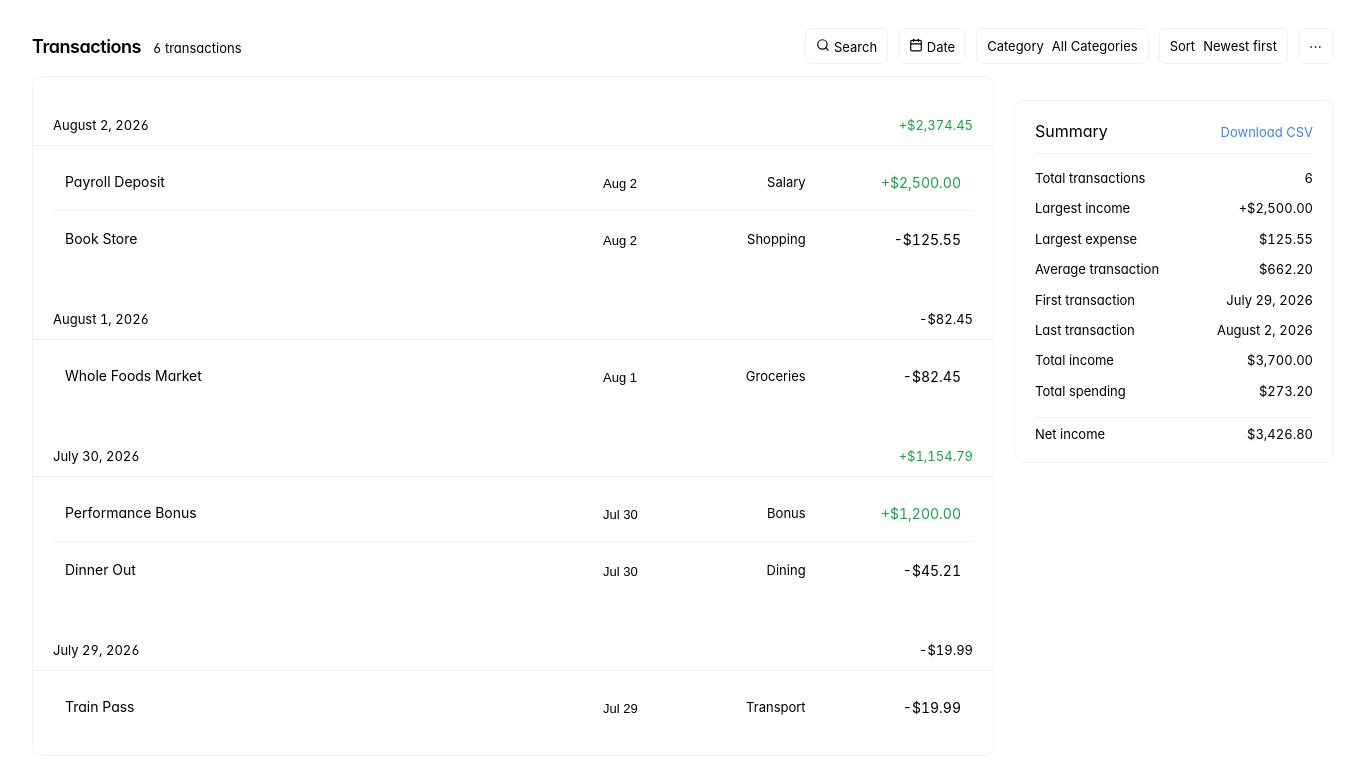
Transactions › sorts transactions within a date group by lowest amount first
Click the button "Sort Newest first". click: (1223, 46)
box: [1159,28,1288,64]
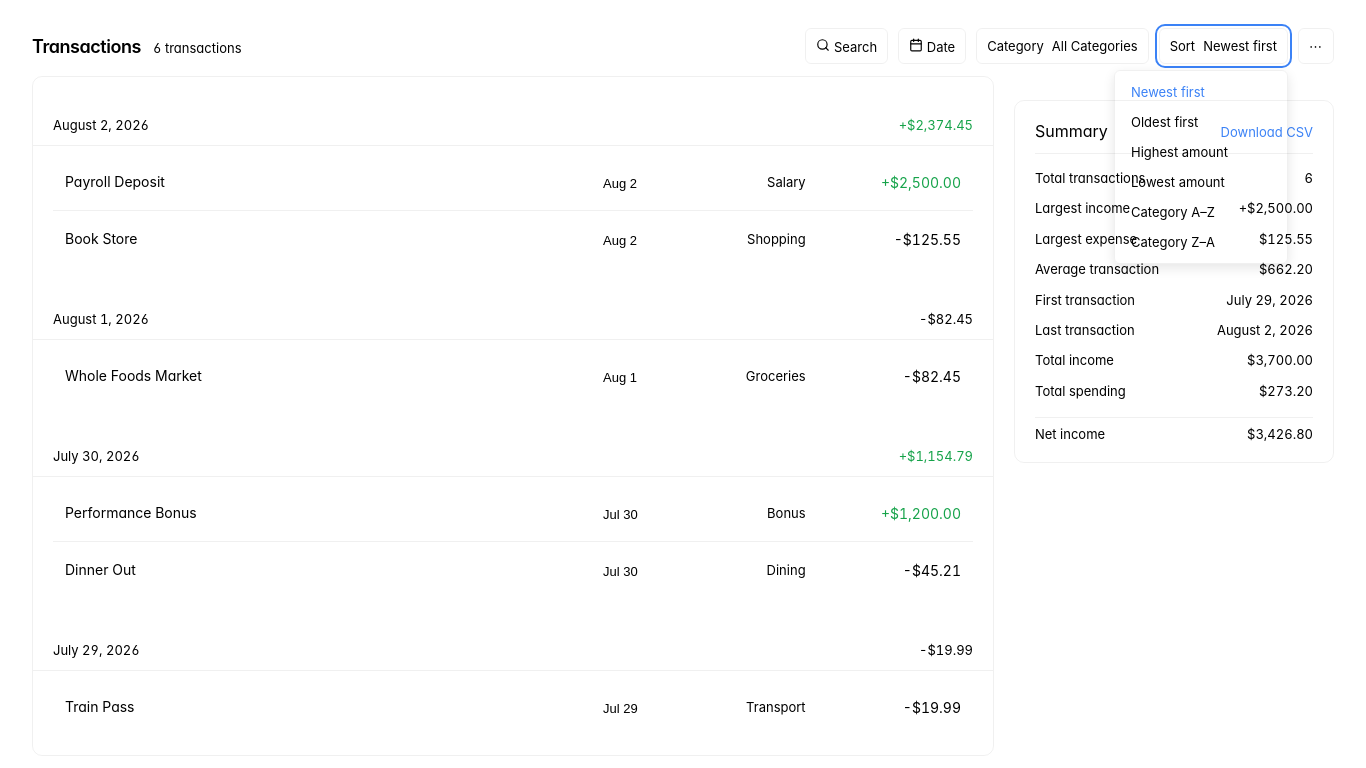
Click the button "Lowest amount". click: (1201, 182)
box: [1121,167,1281,197]
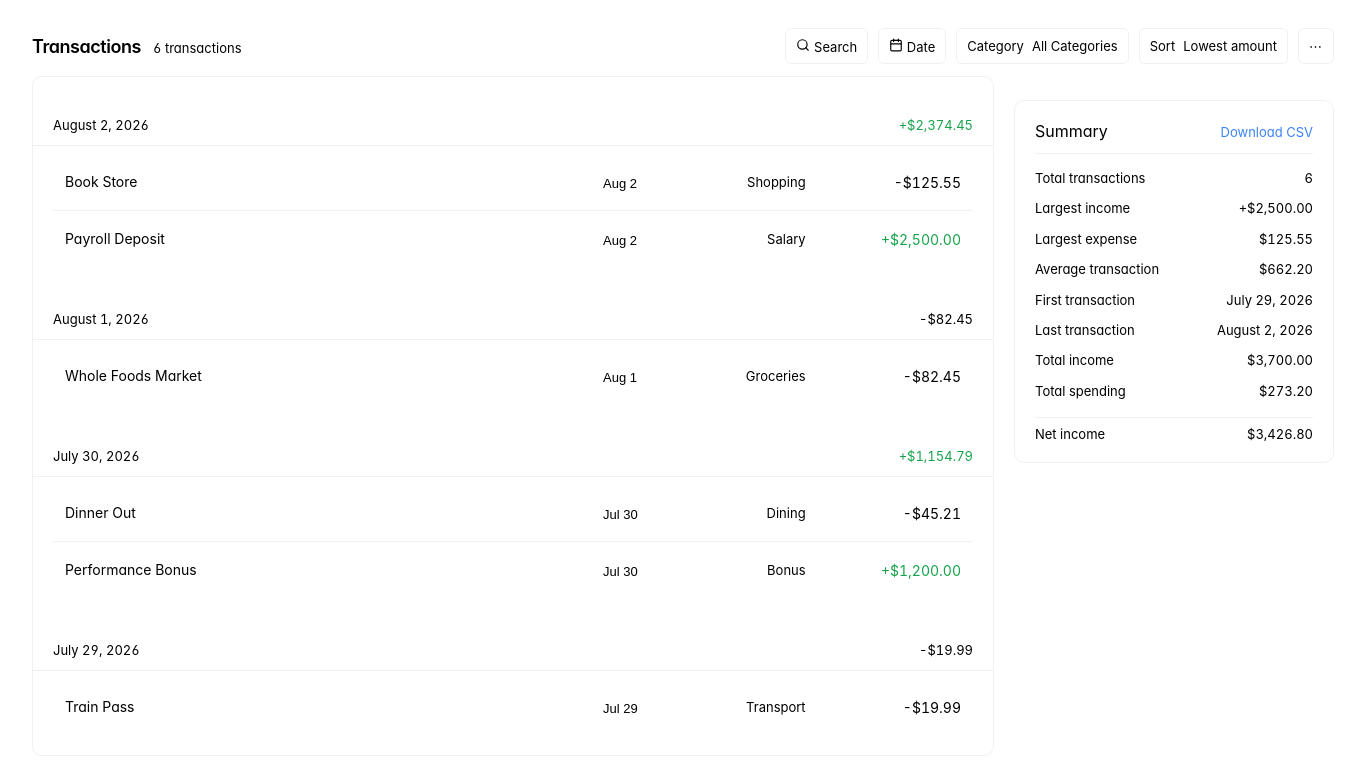
Expected: the element "August 2, 2026" is shown, [53,97,973,267]
Now the text "Book Store" is shown, box [65,172,137,190]
Now the text "Payroll Deposit" is shown, box [65,230,165,246]
